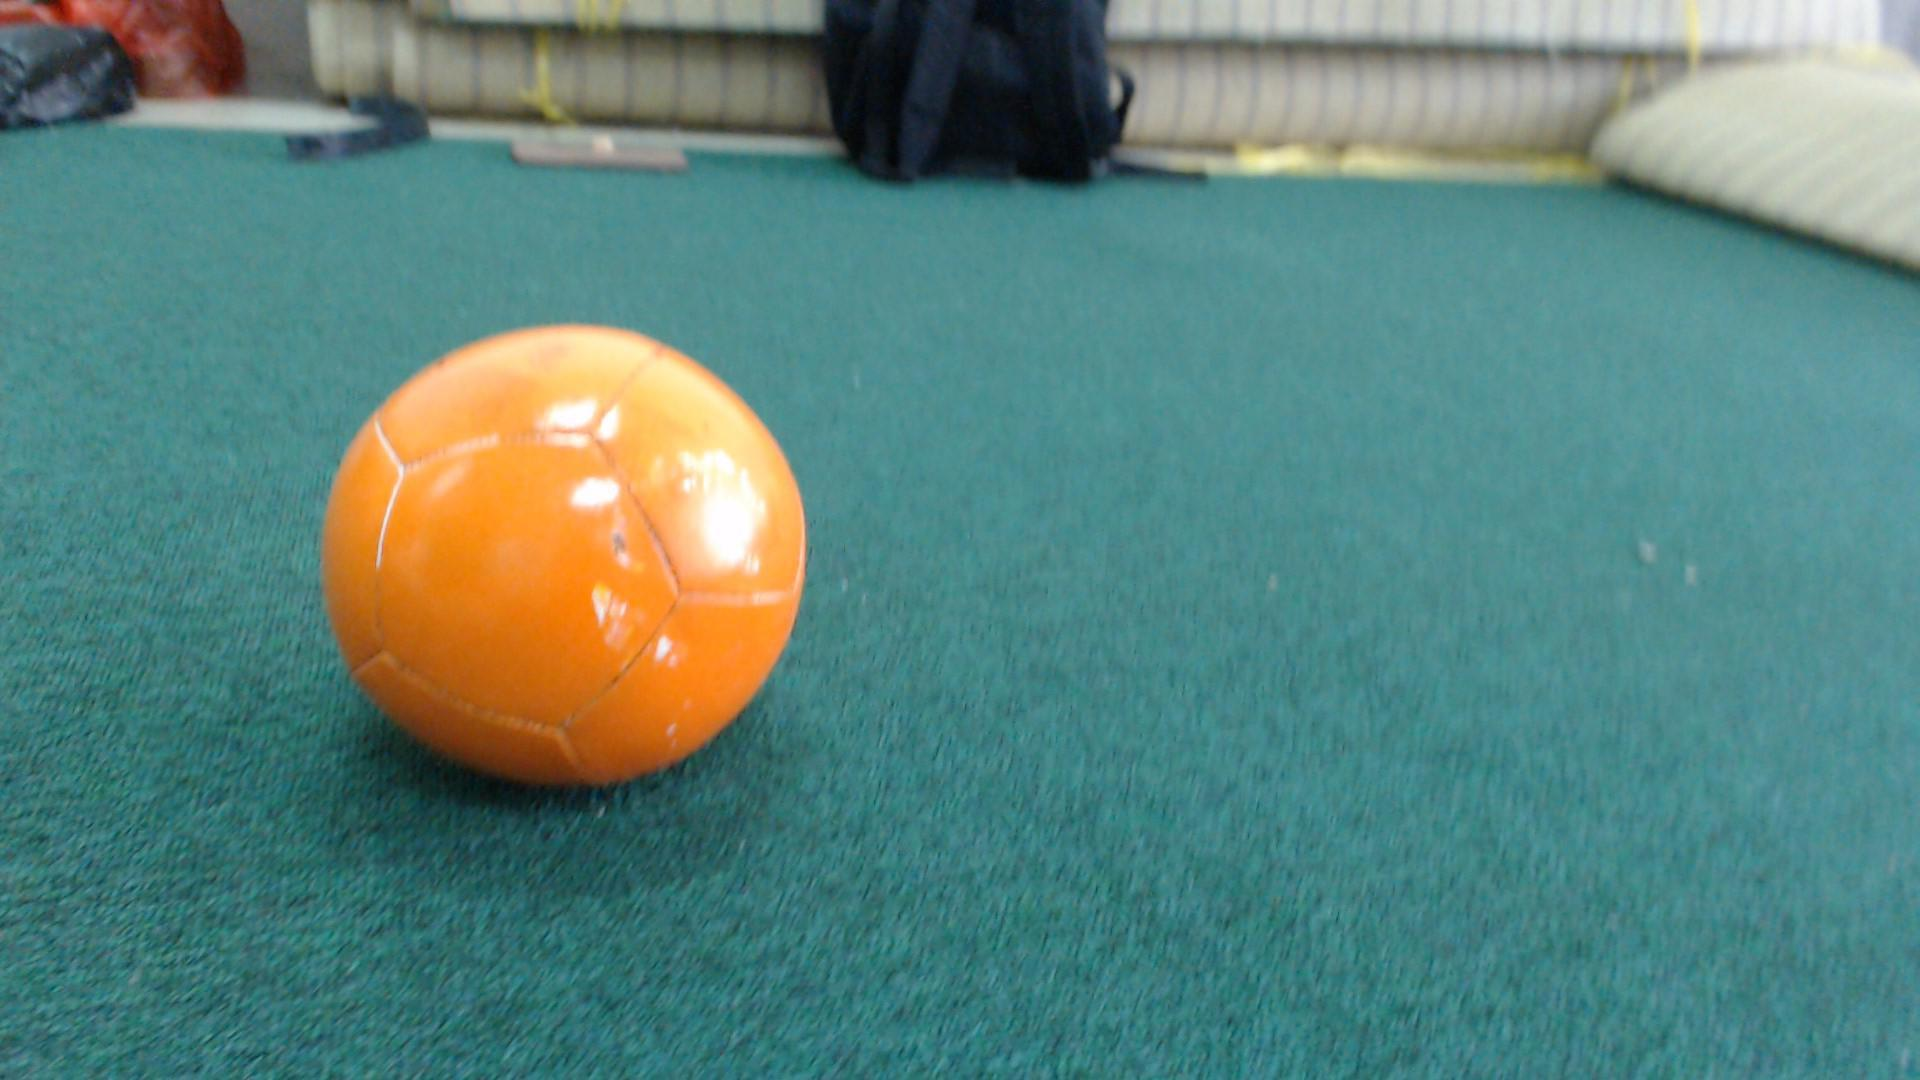bola: (285, 276, 855, 841)
